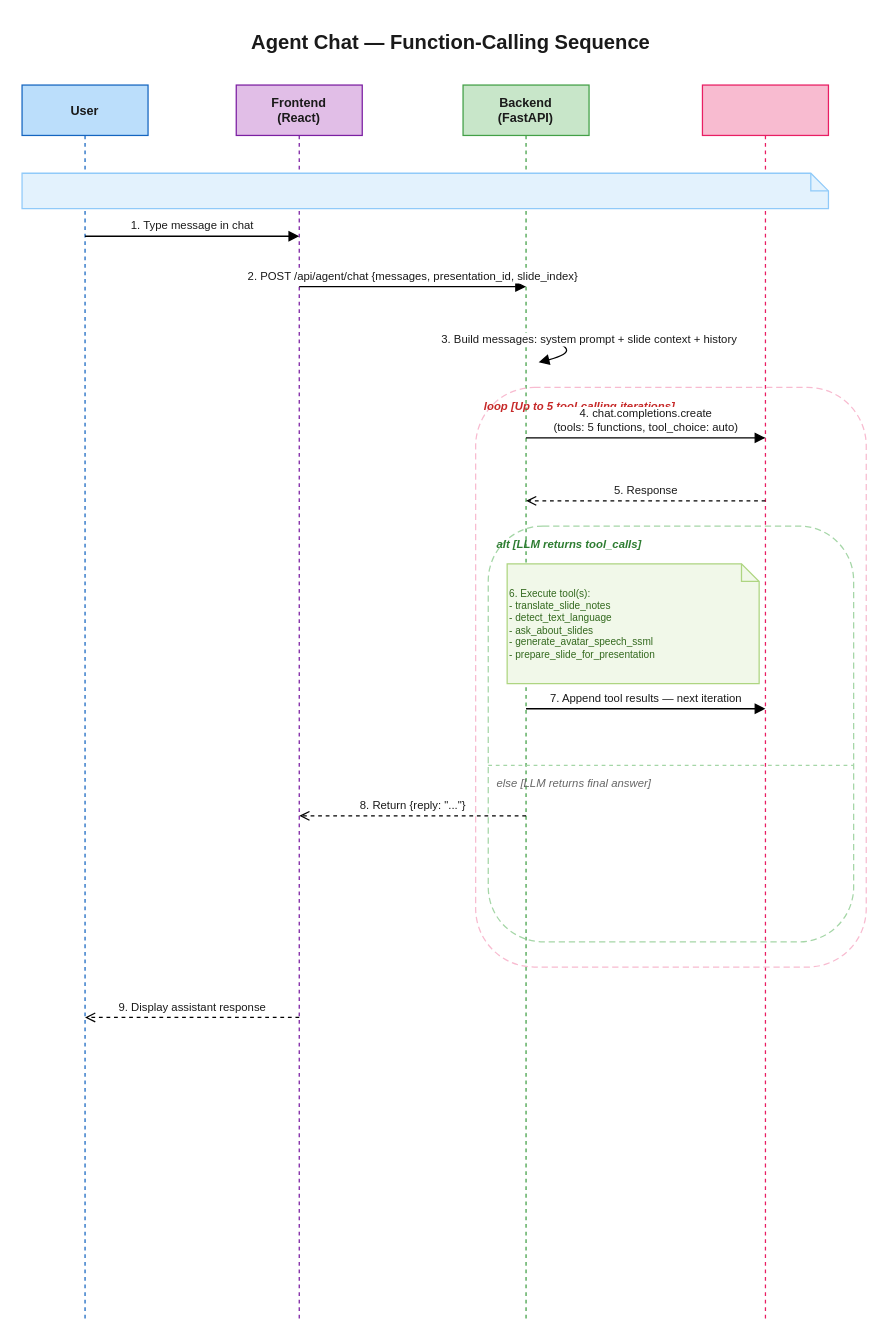
Some shapes in this 888 by 1342 pixel diagram are drawn without their labels. Here are the shapes that lost their labels. From the top down, the centre of each, then its label:
At point (424, 190): "AGENT CHAT WITH FUNCTION-CALLING".
At point (764, 702): "Azure OpenAI (GPT-4.1)".
